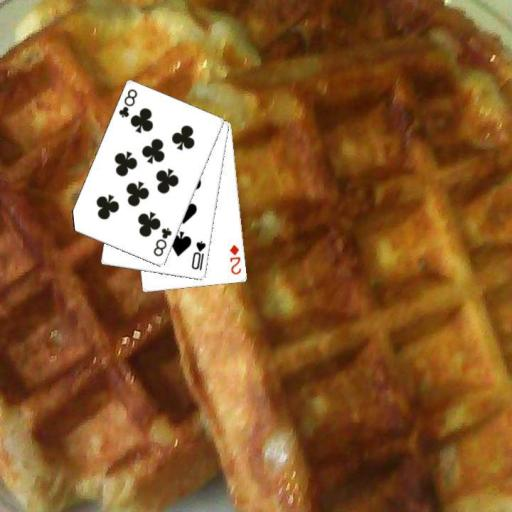10S: (189, 238, 208, 273)
2D: (227, 242, 243, 276)
8C: (115, 86, 139, 120), (150, 225, 174, 258)
